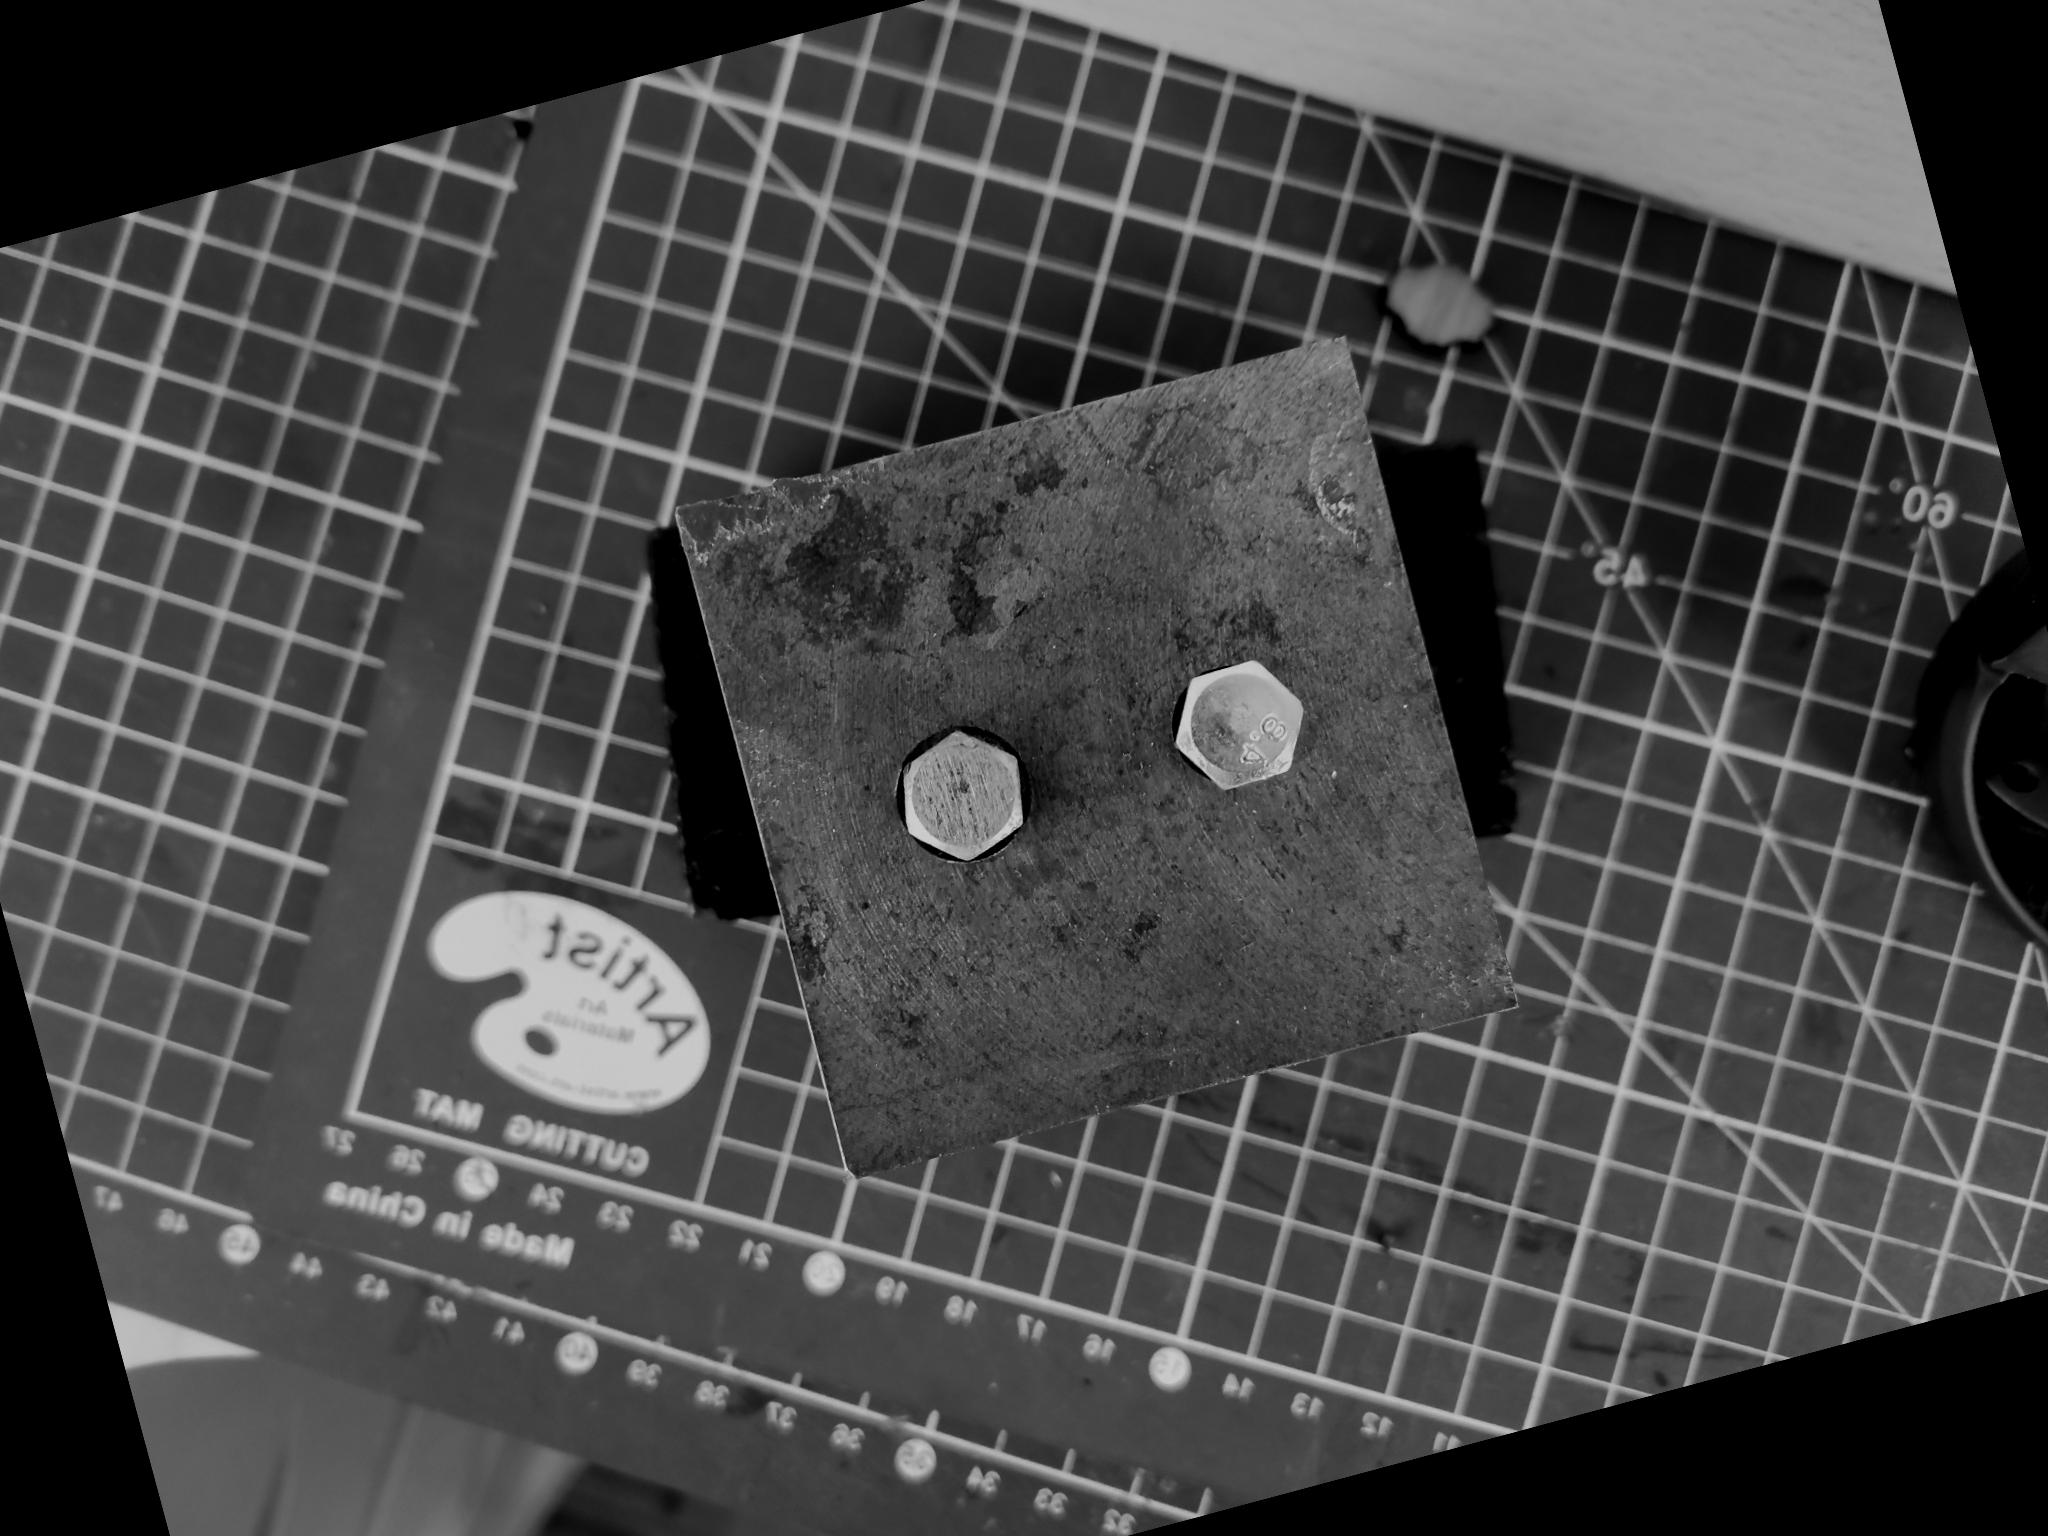hexagonal: (874, 703, 1055, 887), (1150, 634, 1324, 808)
